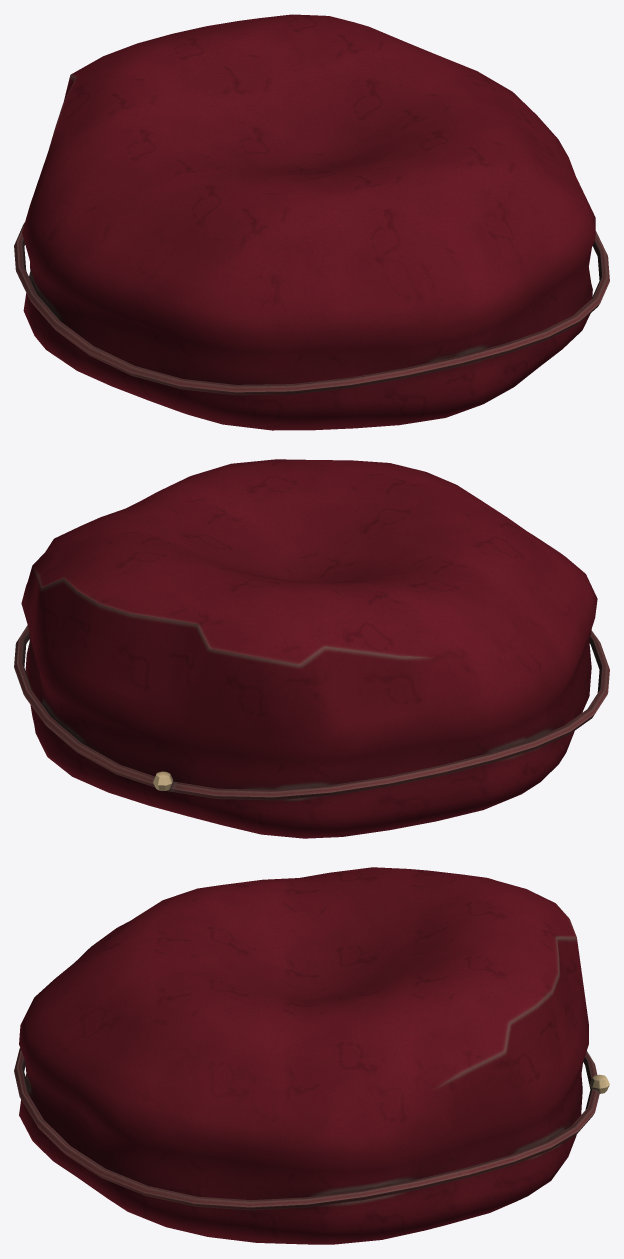
Rendered from BeanBag.fbx.
3 views of the same model, one above another, from view 1: azimuth 30°, elevation 25°; view 2: azimuth 150°, elevation 25°; view 3: azimuth 270°, elevation 25° (orthographic).
Parts seen in each view (by area): view 1: BeanBag; view 2: BeanBag; view 3: BeanBag.
Part boxes in pixels (<box>): BeanBag: <box>14,14,609,430</box>; BeanBag: <box>14,459,609,838</box>; BeanBag: <box>14,867,609,1244</box>.
Size of the model in its own units: 285 by 144 by 289.
